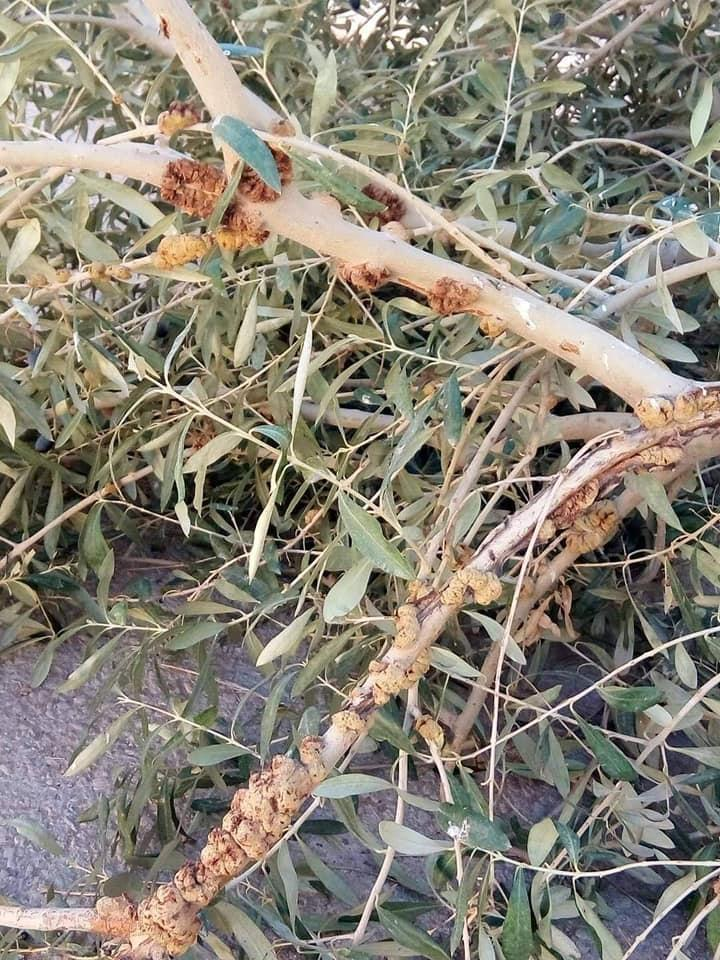Tuberculosis: (326, 554, 506, 734), (151, 161, 270, 260), (96, 868, 216, 944), (426, 263, 526, 350), (524, 480, 632, 537), (253, 738, 323, 813), (620, 425, 714, 473), (198, 816, 283, 856), (328, 250, 394, 301)
